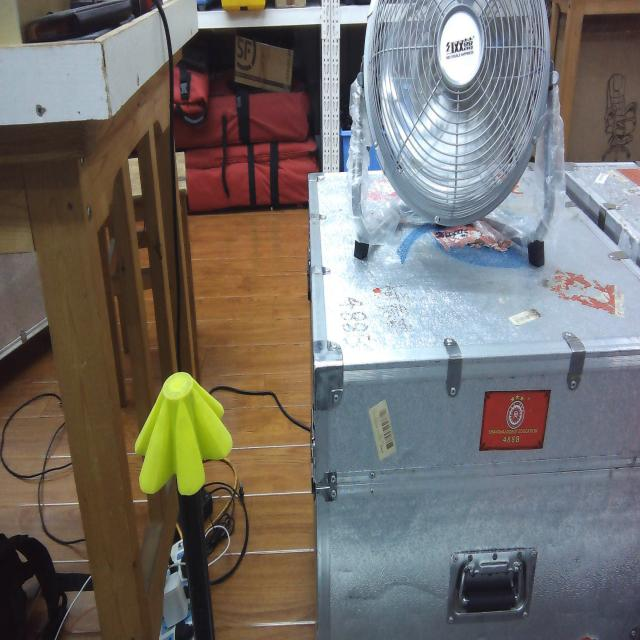Yellow-Stake-Head: (135, 371, 233, 496)
